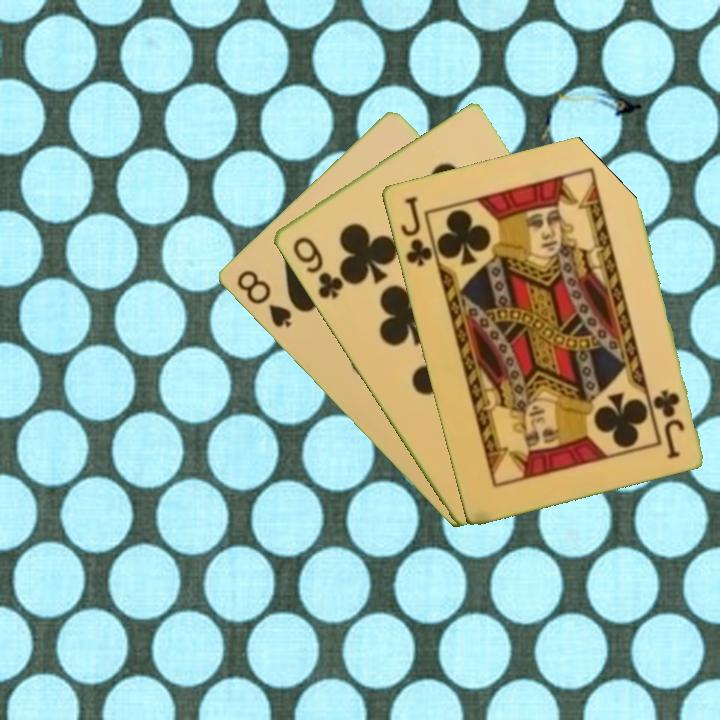8s: (232, 266, 294, 331)
9c: (288, 233, 346, 302)
Jc: (396, 192, 435, 269), (650, 385, 687, 461)
